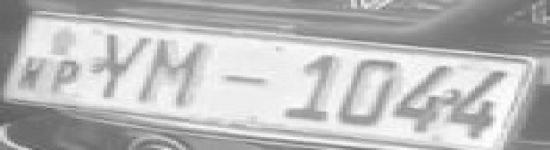0: (329, 54, 412, 132)
1: (274, 51, 346, 126)
4: (378, 58, 473, 139), (430, 62, 521, 144)
M: (128, 36, 219, 113), (215, 70, 274, 92)
P: (50, 59, 84, 95)
W: (16, 56, 50, 92)
Y: (87, 28, 157, 101)
